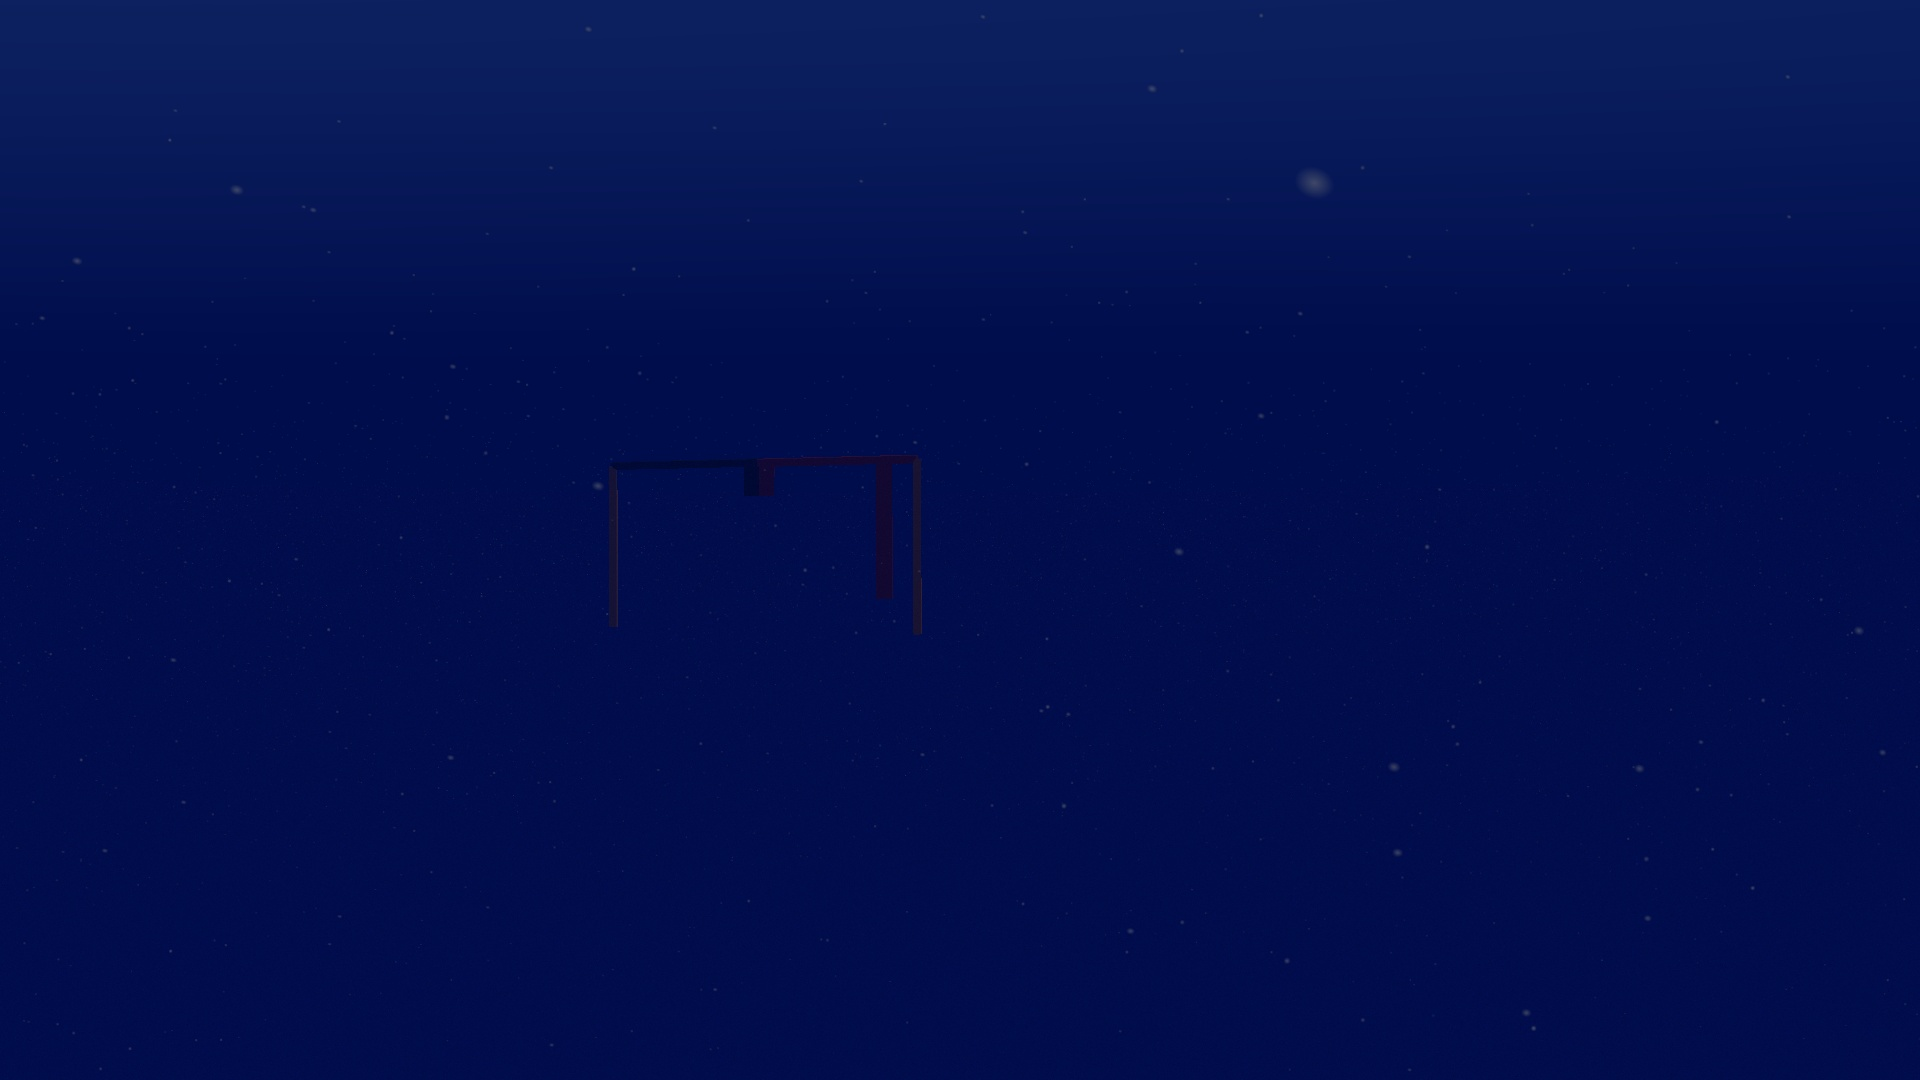Gate: (601, 450, 928, 650)
